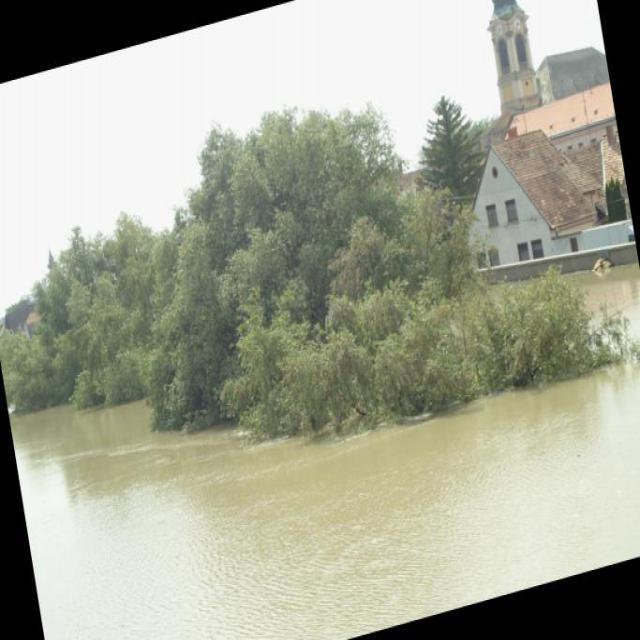flood: (8, 238, 639, 639)
